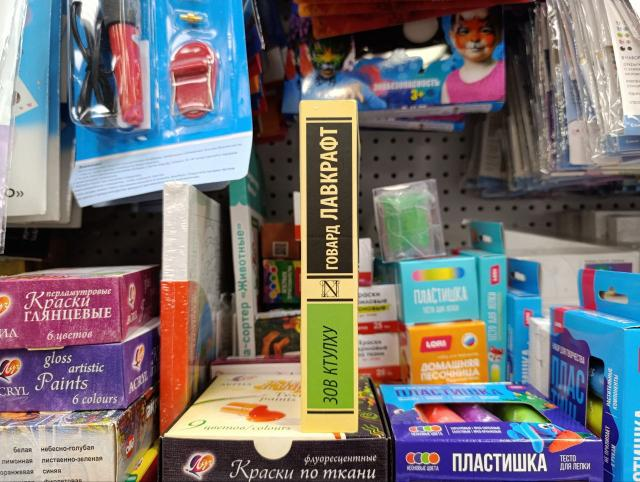book-s-spine: (300, 99, 359, 433)
